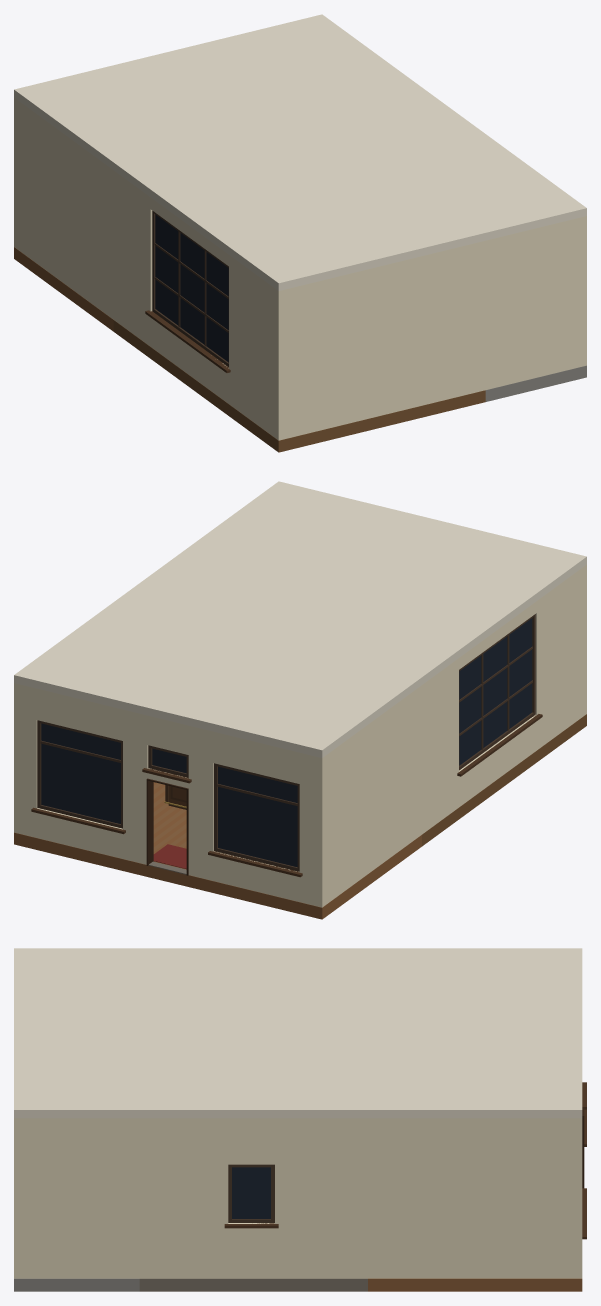
The model's file is Wnetrze_Fotograf.fbx.
3 renders of one model, top to bottom at view 1: azimuth 30°, elevation 25°; view 2: azimuth 150°, elevation 25°; view 3: azimuth 270°, elevation 25°, orthographic. The views are drawn at different scales.
Visible parts, largest first — view 1: Fotograf_Sufit_NOCOL, Fotograf_Sciany, Fotograf_Podloga, Fotograf_Okna, Fotograf_Detal_NOCOL; view 2: Fotograf_Sufit_NOCOL, Fotograf_Sciany, Fotograf_Okna, Fotograf_Podloga, Fotograf_Detal_NOCOL, Fotograf_DrzwiWyjscie_Rama_NOCOL; view 3: Fotograf_Sufit_NOCOL, Fotograf_Sciany, Fotograf_Podloga, Fotograf_Okna, Fotograf_Detal_NOCOL.
Boxes of the visible parts, left/top/right/bottom form: Fotograf_Sufit_NOCOL: left=14, top=14, right=586, bottom=290; Fotograf_Sciany: left=14, top=97, right=586, bottom=440; Fotograf_Podloga: left=14, top=247, right=586, bottom=452; Fotograf_Okna: left=155, top=214, right=228, bottom=362; Fotograf_Detal_NOCOL: left=145, top=211, right=230, bottom=372; Fotograf_Sufit_NOCOL: left=14, top=481, right=586, bottom=757; Fotograf_Sciany: left=14, top=564, right=586, bottom=907; Fotograf_Okna: left=41, top=618, right=532, bottom=867; Fotograf_Podloga: left=14, top=714, right=586, bottom=919; Fotograf_Detal_NOCOL: left=31, top=614, right=542, bottom=877; Fotograf_DrzwiWyjscie_Rama_NOCOL: left=146, top=778, right=188, bottom=875; Fotograf_Sufit_NOCOL: left=14, top=948, right=582, bottom=1118; Fotograf_Sciany: left=14, top=1118, right=582, bottom=1278; Fotograf_Podloga: left=14, top=1278, right=582, bottom=1291; Fotograf_Okna: left=232, top=1167, right=270, bottom=1218; Fotograf_Detal_NOCOL: left=224, top=1082, right=586, bottom=1239.
Size of the model in its own units: 8.4 by 4.3 by 12.3.
